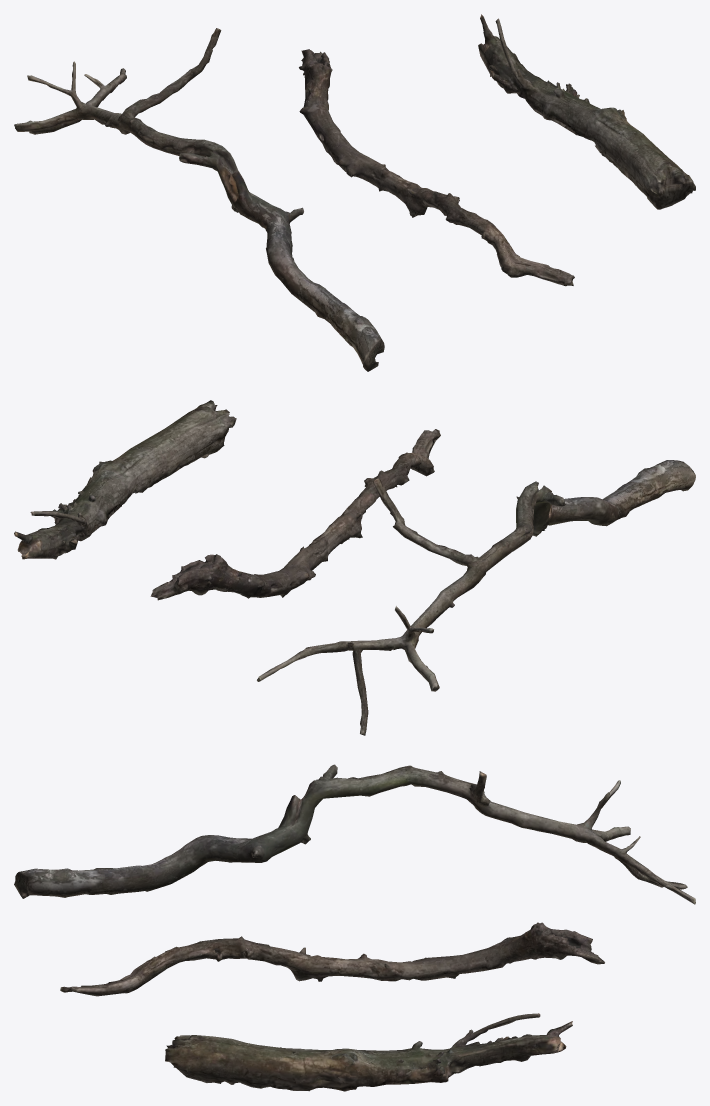
File: ranting.glb
3 views of the same model, one above another, from view 1: azimuth 30°, elevation 25°; view 2: azimuth 150°, elevation 25°; view 3: azimuth 270°, elevation 25° (orthographic). The views are drawn at different scales.
Visible parts, largest first — view 1: dry_branches_medium_01_a, dry_branches_medium_01_c, dry_branches_medium_01_b; view 2: dry_branches_medium_01_a, dry_branches_medium_01_c, dry_branches_medium_01_b; view 3: dry_branches_medium_01_a, dry_branches_medium_01_c, dry_branches_medium_01_b.
Part boxes in pixels (x1,y1,x2,y2): dry_branches_medium_01_a: (14, 28, 384, 371); dry_branches_medium_01_c: (478, 14, 695, 209); dry_branches_medium_01_b: (299, 49, 574, 286); dry_branches_medium_01_a: (257, 460, 695, 735); dry_branches_medium_01_c: (14, 400, 236, 559); dry_branches_medium_01_b: (150, 429, 440, 600); dry_branches_medium_01_a: (14, 764, 695, 904); dry_branches_medium_01_c: (165, 1013, 572, 1091); dry_branches_medium_01_b: (60, 922, 604, 996).
Bounding box in the file's own units: 1.06 × 0.341 × 1.3.
Materials: 1 (1 with a texture image).
